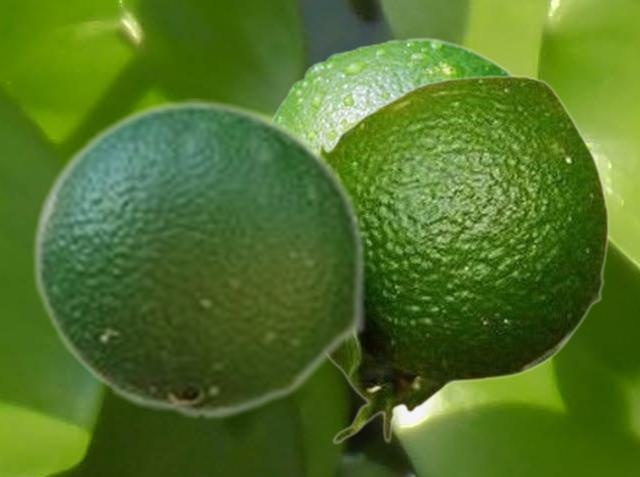dalandan: (270, 36, 593, 386), (31, 98, 367, 420), (317, 74, 609, 444)
